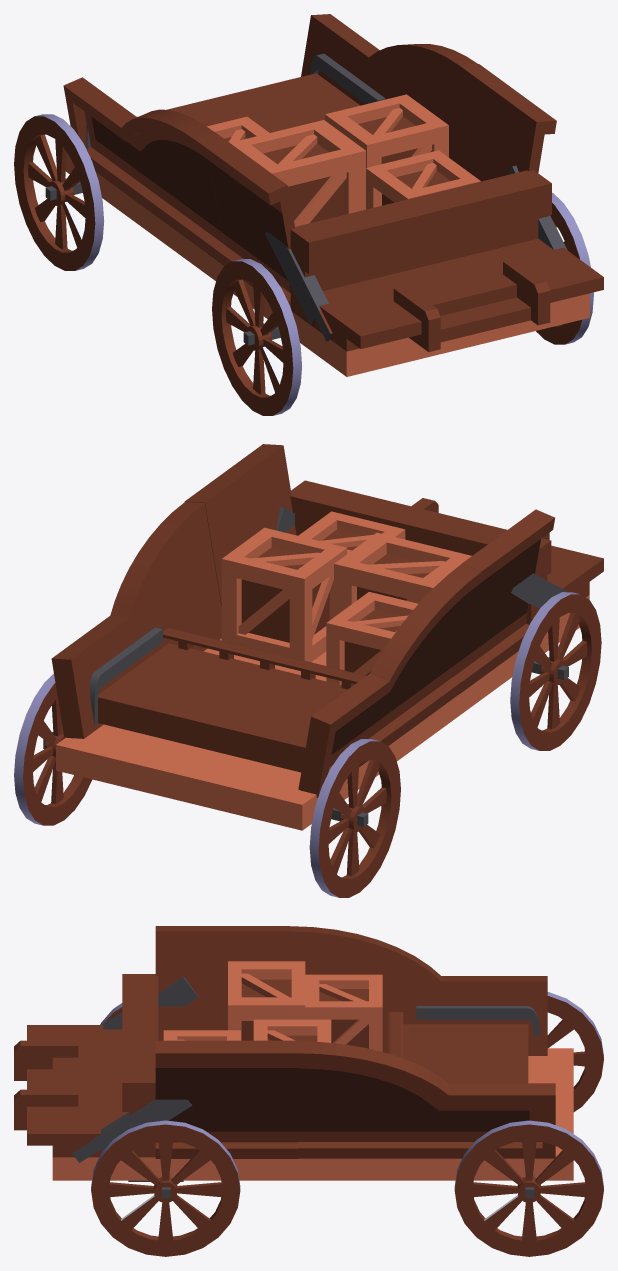
Rendered from Wagon.fbx.
The picture shows the model from 3 angles, top to bottom: view 1: azimuth 30°, elevation 25°; view 2: azimuth 150°, elevation 25°; view 3: azimuth 270°, elevation 25°; orthographic projection. The views are drawn at different scales.
Visible parts, largest first — view 1: mergedBlocks; view 2: mergedBlocks; view 3: mergedBlocks.
Boxes of the visible parts, x1,y1,x2,y2 form: mergedBlocks: [14, 14, 603, 415]; mergedBlocks: [14, 444, 603, 897]; mergedBlocks: [14, 926, 603, 1256].
Bounding box in the file's own units: 13 × 8.83 × 22.88.
